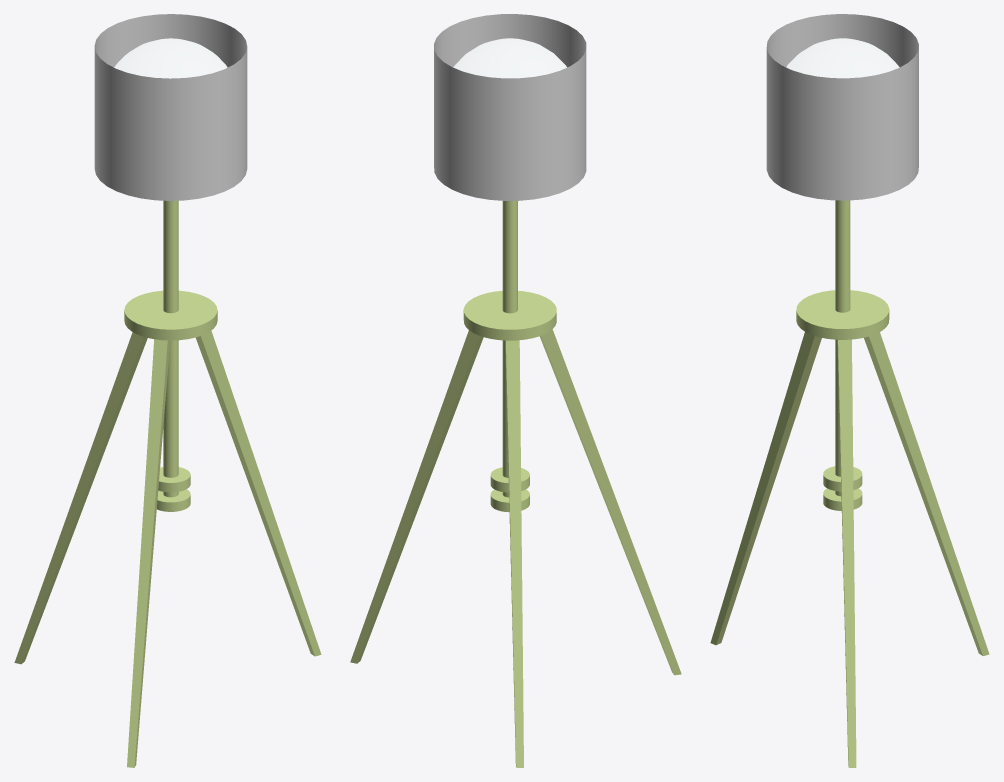
The model's file is lamp_active.glb.
The picture shows the model from 3 angles, left to right: view 1: azimuth 30°, elevation 25°; view 2: azimuth 150°, elevation 25°; view 3: azimuth 270°, elevation 25°; orthographic projection.
Visible parts, largest first — view 1: lamp_active; view 2: lamp_active; view 3: lamp_active.
Boxes of the visible parts, x1,y1,x2,y2 form: lamp_active: [14, 14, 321, 767]; lamp_active: [350, 14, 681, 767]; lamp_active: [710, 14, 989, 767].
Size of the model in its own units: 0.8886 by 2.11 by 0.8237.
